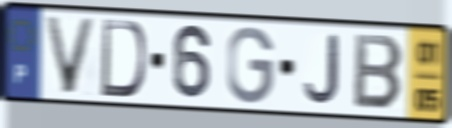6: (171, 23, 214, 102)
B: (351, 31, 407, 113)
D: (97, 17, 149, 100)
G: (225, 25, 277, 107)
J: (301, 33, 342, 107)
V: (41, 14, 99, 97)
